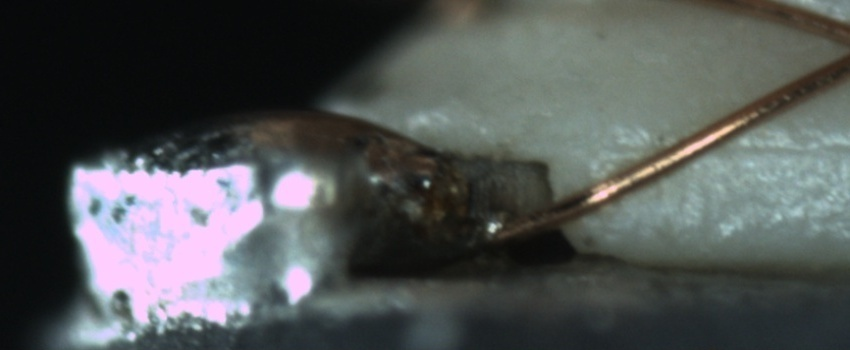DL: (614, 114, 849, 181)
